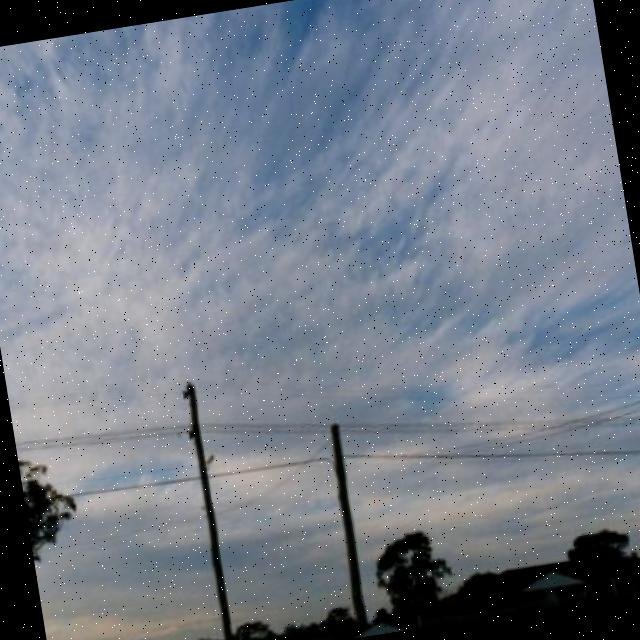Cc: (1, 1, 636, 393)
